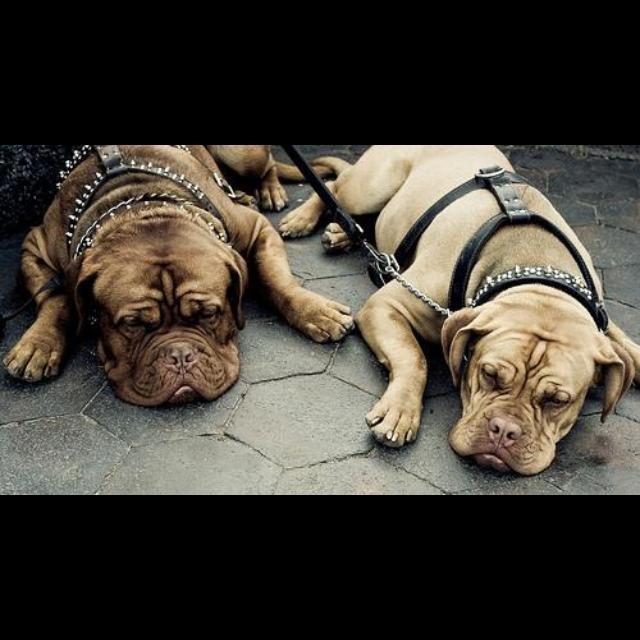bullmastiff: (278, 147, 640, 478), (2, 146, 357, 408)
